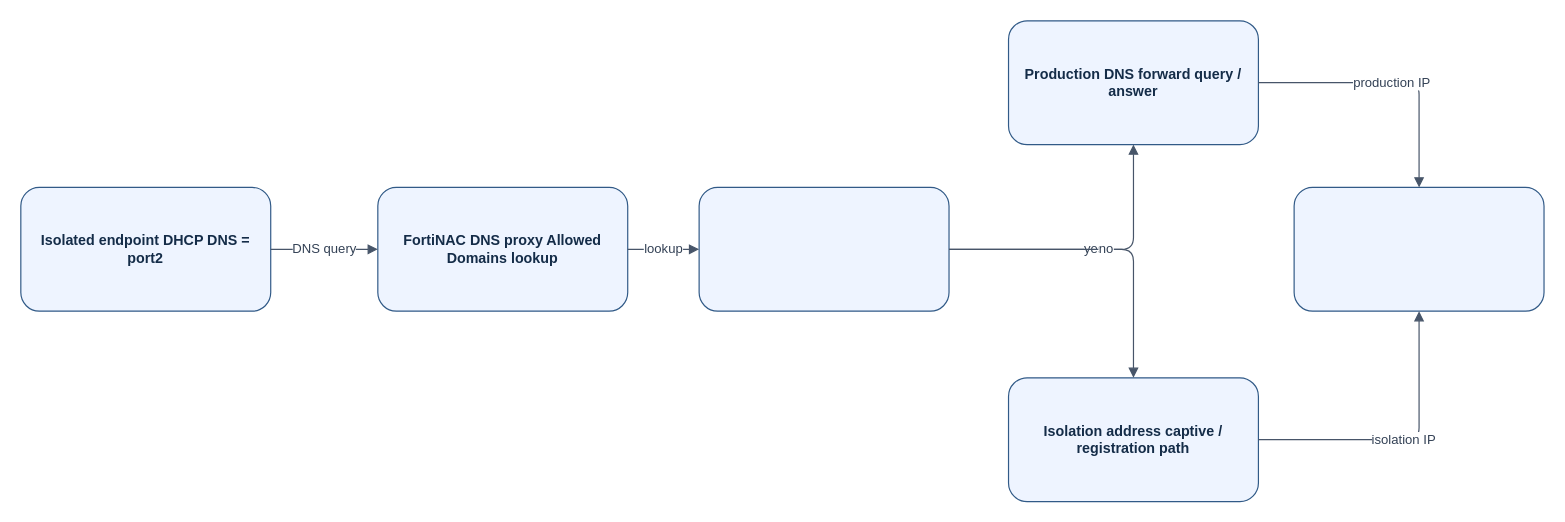
This 1565x522 diagram has some shape labels left out. Here are the shapes that lost their labels. From the top down, the centre of each, then its label:
At [823,248]: "Allowed? domain match".
At [1418,248]: "Endpoint response answer returned".
